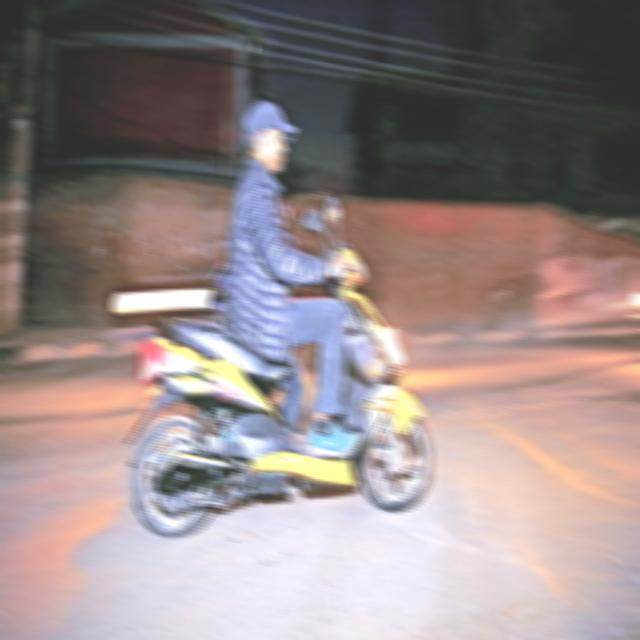Without Helmet: (238, 96, 300, 178)
